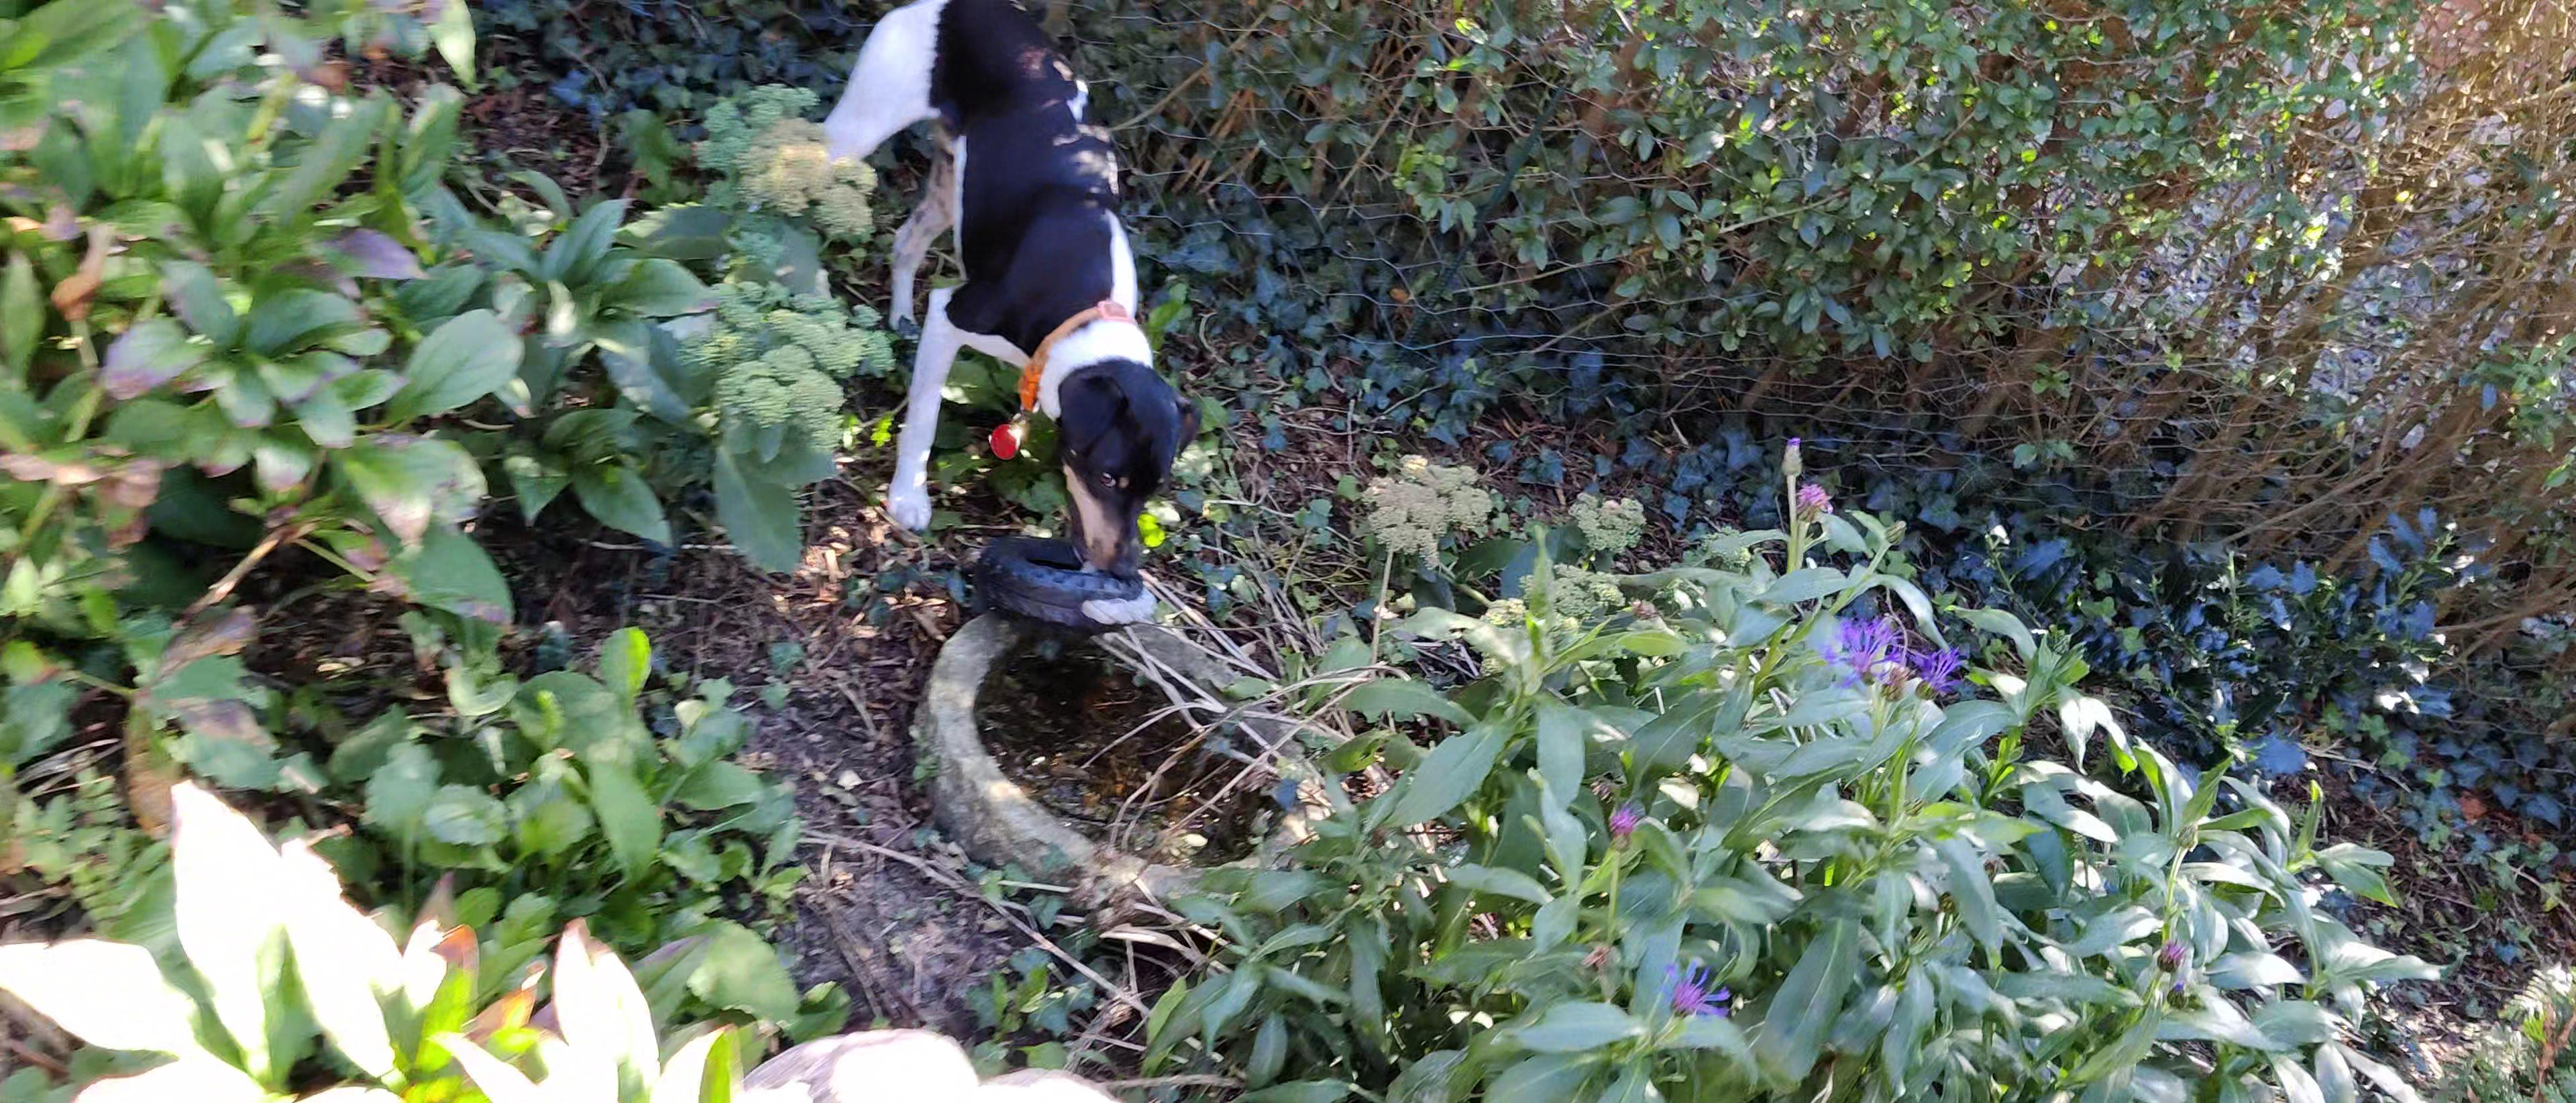Dog: (816, 0, 1201, 585)
